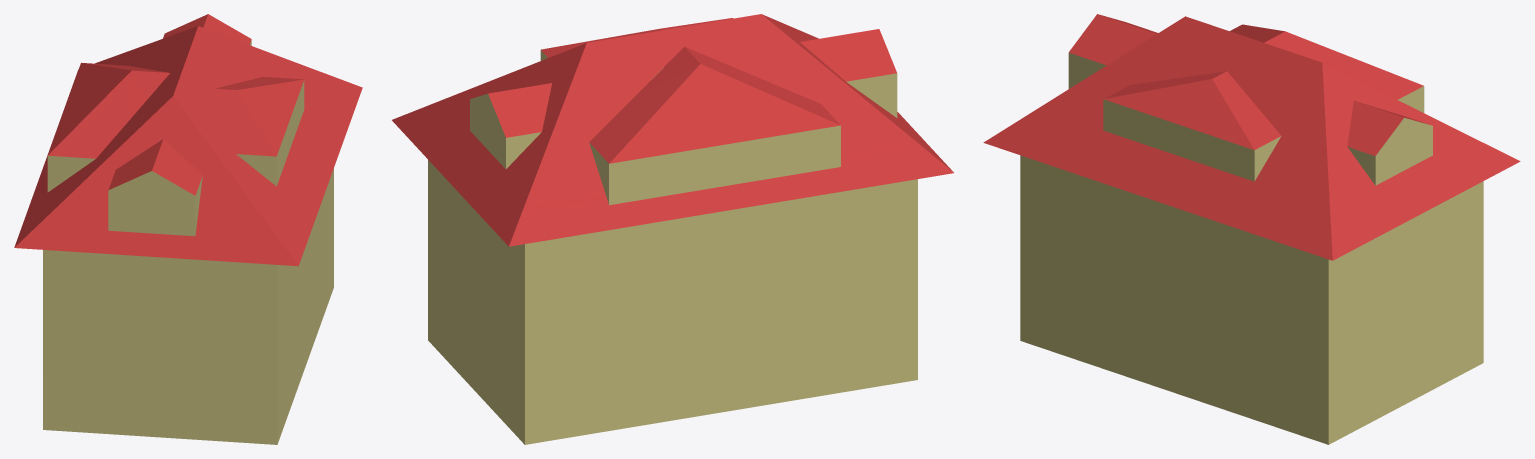
3 views of the same model, side by side, from view 1: azimuth 30°, elevation 25°; view 2: azimuth 150°, elevation 25°; view 3: azimuth 270°, elevation 25° (orthographic). The views are drawn at different scales.
Parts seen in each view (by area): view 1: group_11, group_3, group_10, group_4, group_6, group_9, group_8, group_7, group_5; view 2: group_11, group_3, group_4, group_5, group_10, group_8, group_9, group_6; view 3: group_11, group_3, group_6, group_10, group_7, group_8, group_9, group_4.
Boxes of the visible parts, left/top/right/bottom form: group_11: left=43, top=168, right=333, bottom=444; group_3: left=14, top=26, right=362, bottom=265; group_10: left=14, top=62, right=361, bottom=266; group_4: left=48, top=62, right=169, bottom=158; group_6: left=215, top=76, right=304, bottom=156; group_9: left=108, top=40, right=251, bottom=236; group_8: left=108, top=14, right=251, bottom=195; group_7: left=236, top=80, right=304, bottom=186; group_5: left=47, top=155, right=95, bottom=192; group_11: left=428, top=67, right=917, bottom=444; group_3: left=392, top=14, right=953, bottom=246; group_4: left=589, top=46, right=840, bottom=163; group_5: left=589, top=125, right=840, bottom=205; group_10: left=392, top=106, right=953, bottom=246; group_8: left=488, top=29, right=896, bottom=137; group_9: left=470, top=73, right=897, bottom=168; group_6: left=541, top=18, right=733, bottom=57; group_11: left=1020, top=155, right=1483, bottom=444; group_3: left=983, top=16, right=1520, bottom=260; group_6: left=1104, top=71, right=1280, bottom=149; group_10: left=986, top=119, right=1519, bottom=260; group_7: left=1103, top=99, right=1280, bottom=181; group_8: left=1069, top=14, right=1428, bottom=155; group_9: left=1068, top=53, right=1432, bottom=185; group_4: left=1230, top=24, right=1423, bottom=99.
Bounding box in the file's own units: 19.44 × 20.31 × 12.98.
